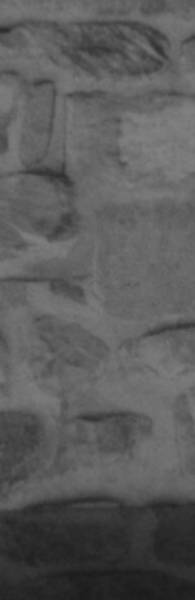water: (0, 506, 195, 600)
